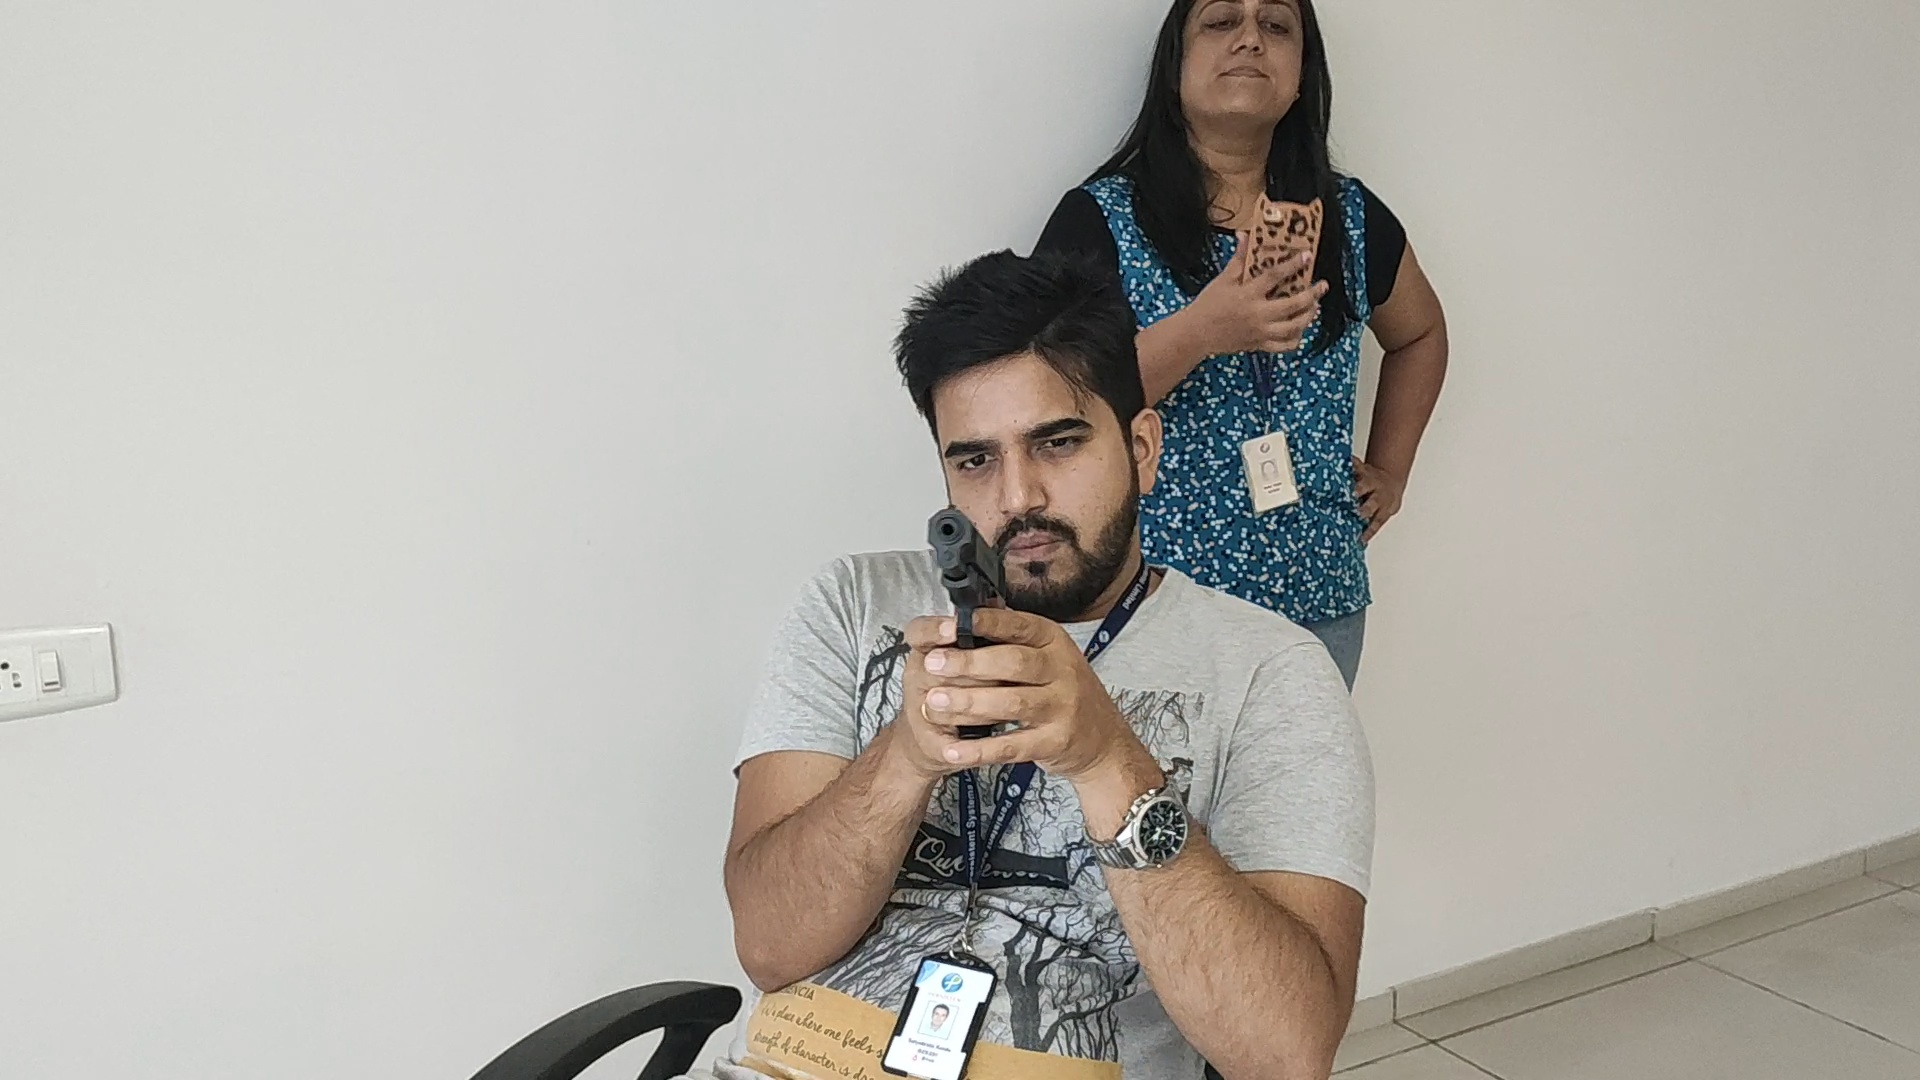gun: (928, 504, 1005, 607)
